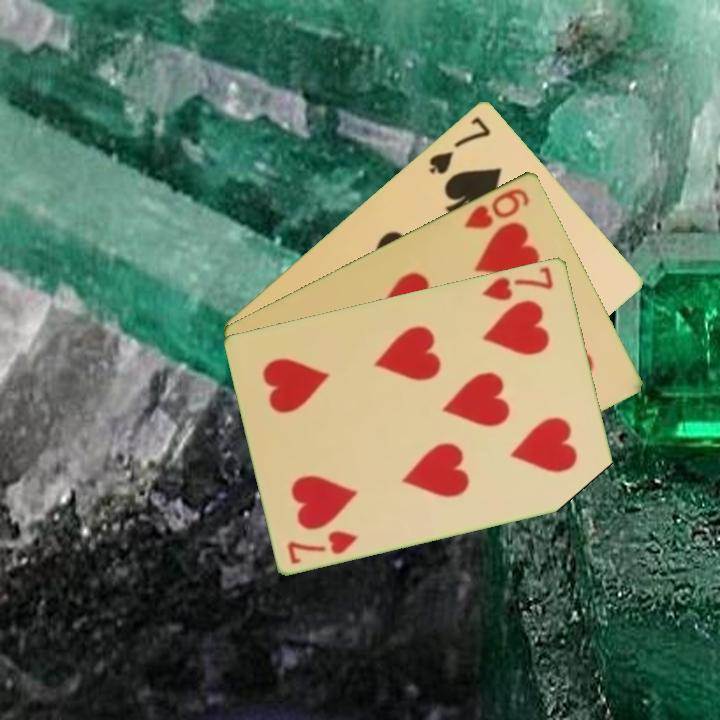6h: (460, 184, 533, 232)
7h: (284, 526, 362, 567), (479, 262, 556, 303)
7s: (425, 112, 494, 177)
